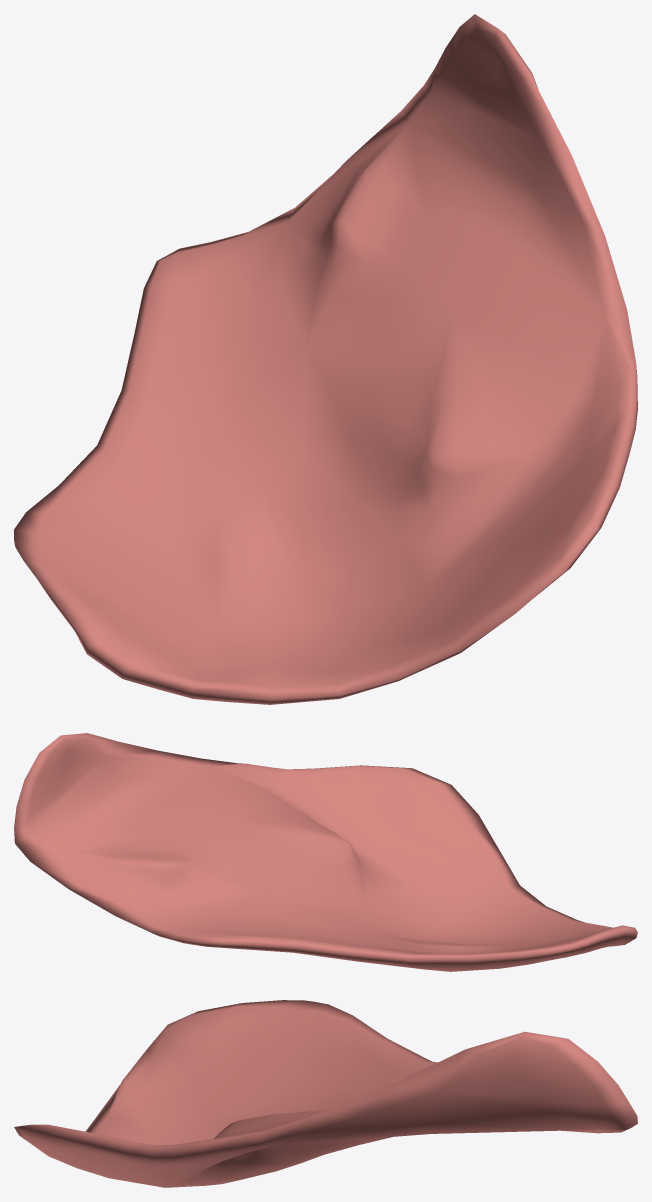
3 views of the same model, one above another, from view 1: azimuth 30°, elevation 25°; view 2: azimuth 150°, elevation 25°; view 3: azimuth 270°, elevation 25° (orthographic). The views are drawn at different scales.
Visible parts, largest first — view 1: ZA_a77ebbe751847904; view 2: ZA_a77ebbe751847904; view 3: ZA_a77ebbe751847904.
Boxes of the visible parts, left/top/right/bottom form: ZA_a77ebbe751847904: left=14, top=14, right=637, bottom=704; ZA_a77ebbe751847904: left=14, top=733, right=637, bottom=971; ZA_a77ebbe751847904: left=14, top=1000, right=637, bottom=1187.
Bounding box in the file's own units: 0.016 × 0.00888 × 0.0168.
